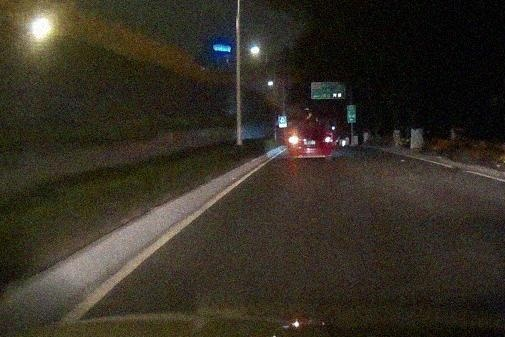L_light: (288, 135, 299, 144)
R_light: (323, 136, 333, 143)
T_light: (306, 127, 315, 128)
night-left: (288, 125, 333, 162)
